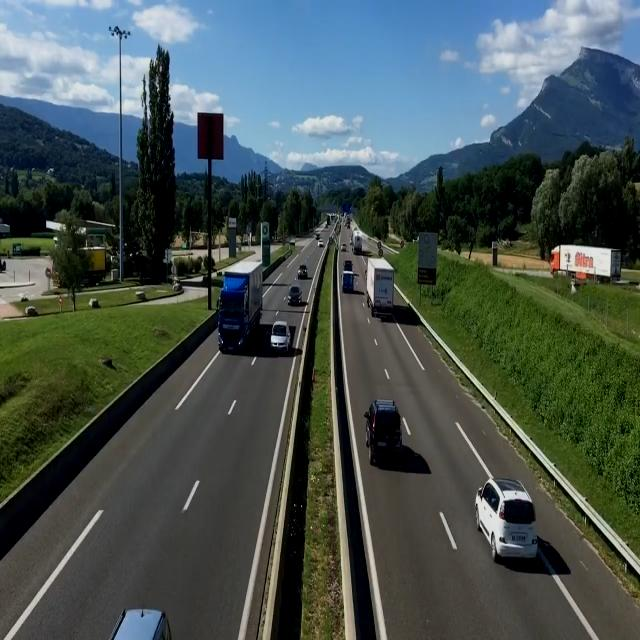Car: (470, 465, 551, 571), (356, 398, 418, 463), (268, 319, 301, 358), (282, 282, 309, 308), (289, 260, 317, 281)
Truck: (203, 255, 265, 356), (364, 258, 403, 316), (337, 268, 359, 294), (349, 230, 371, 256)
